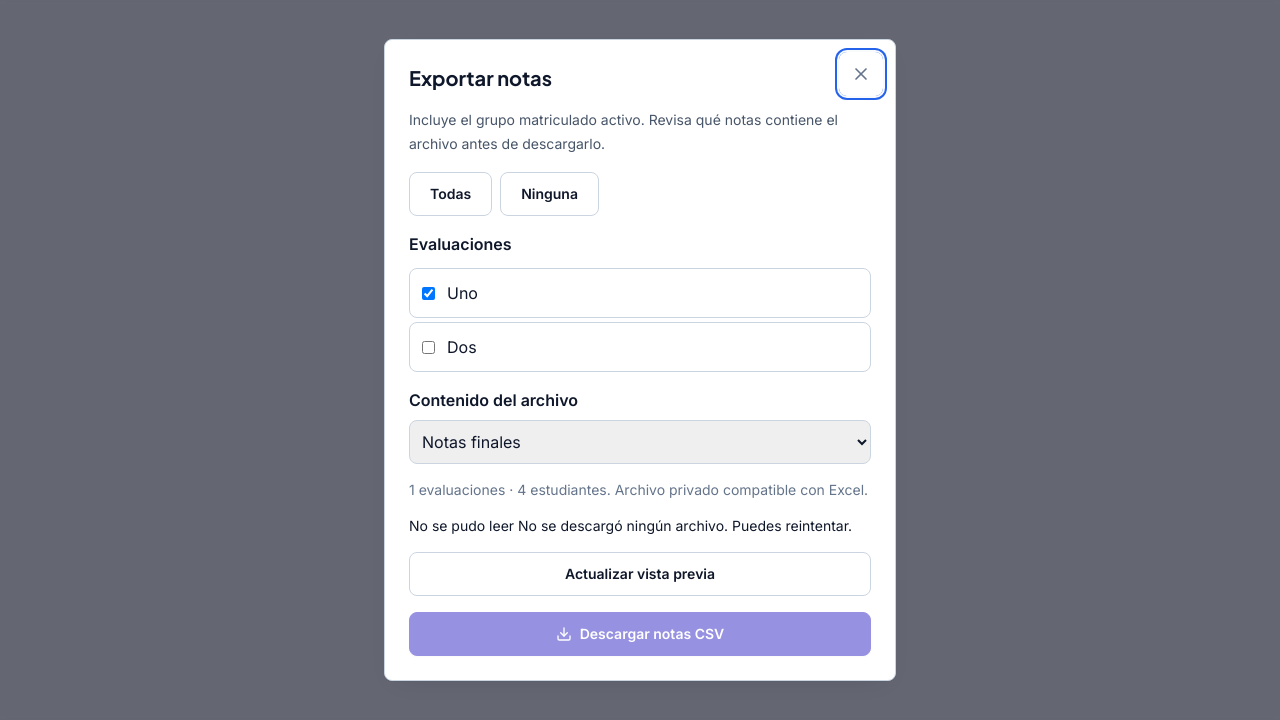
Scenario: supports retrying a failed preview and permission withdrawal never downloads
This screenshot has width=1280, height=720.
Expected: the message "No se pudo leer No se descargó ningún archivo. Puedes reintentar." is shown, [409,516,871,536]
Click the button "Actualizar vista previa".
click(640, 574)  # box [409,552,871,596]
(page scrolled)
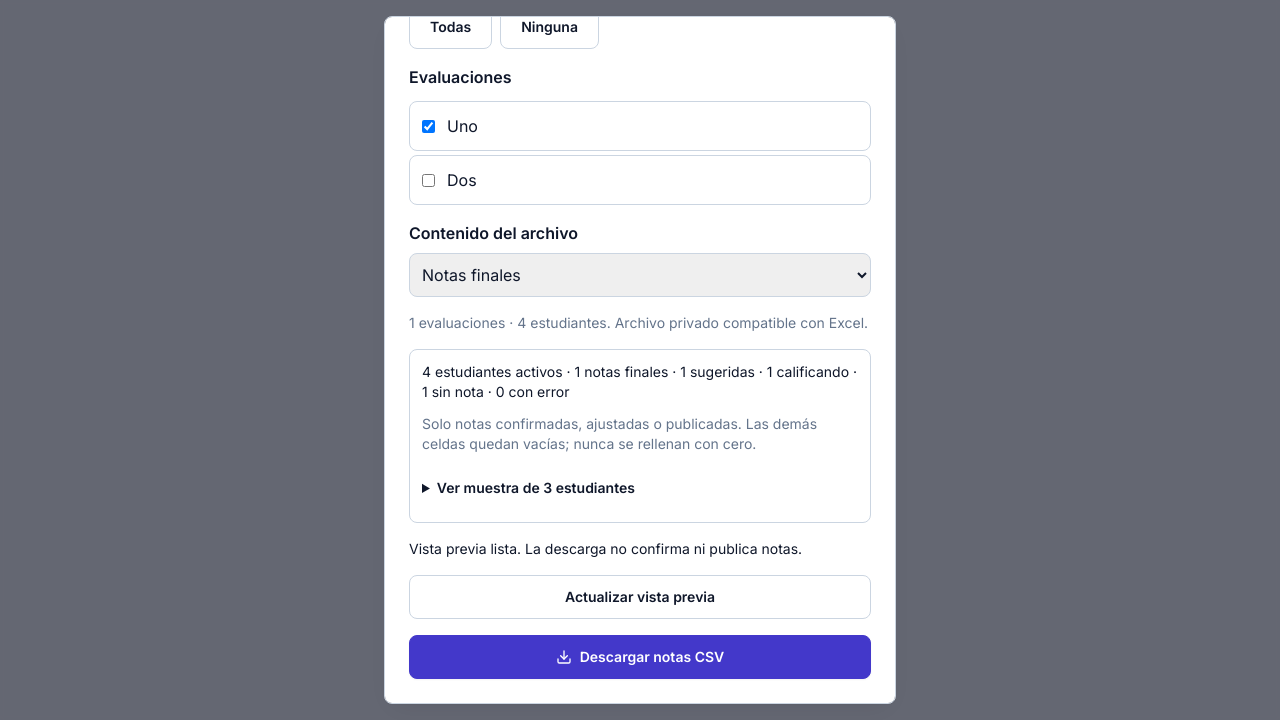
Expected: the button "Descargar notas CSV" is enabled, [409,635,871,679]
